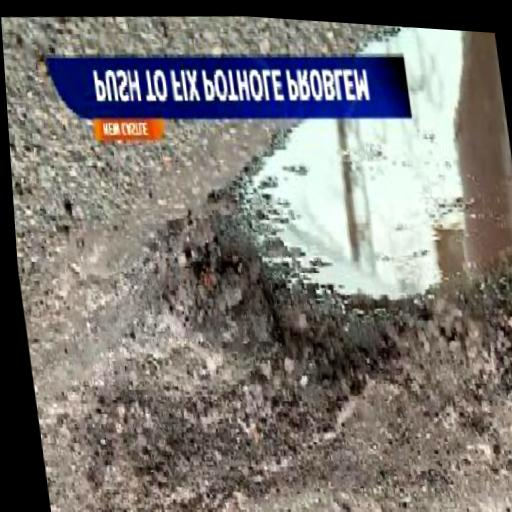pothole: (109, 7, 512, 455)
